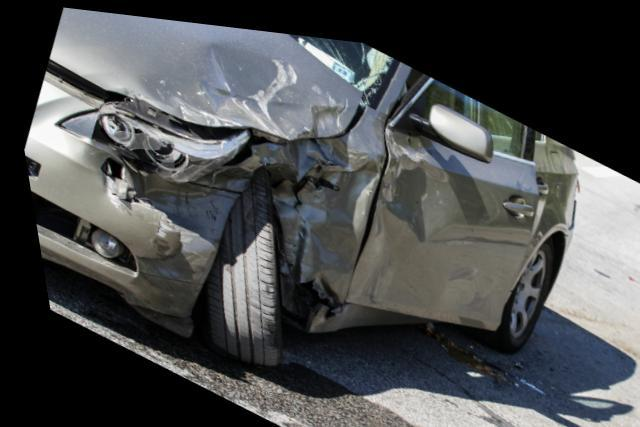crack: (265, 159, 315, 204)
dent: (251, 129, 385, 294), (131, 40, 352, 134), (139, 162, 243, 240), (367, 120, 431, 238)
dislocated part: (41, 54, 287, 147)
glass shatter: (288, 27, 393, 97)
lamp broken: (52, 94, 244, 182)
no part: (20, 153, 32, 176)
